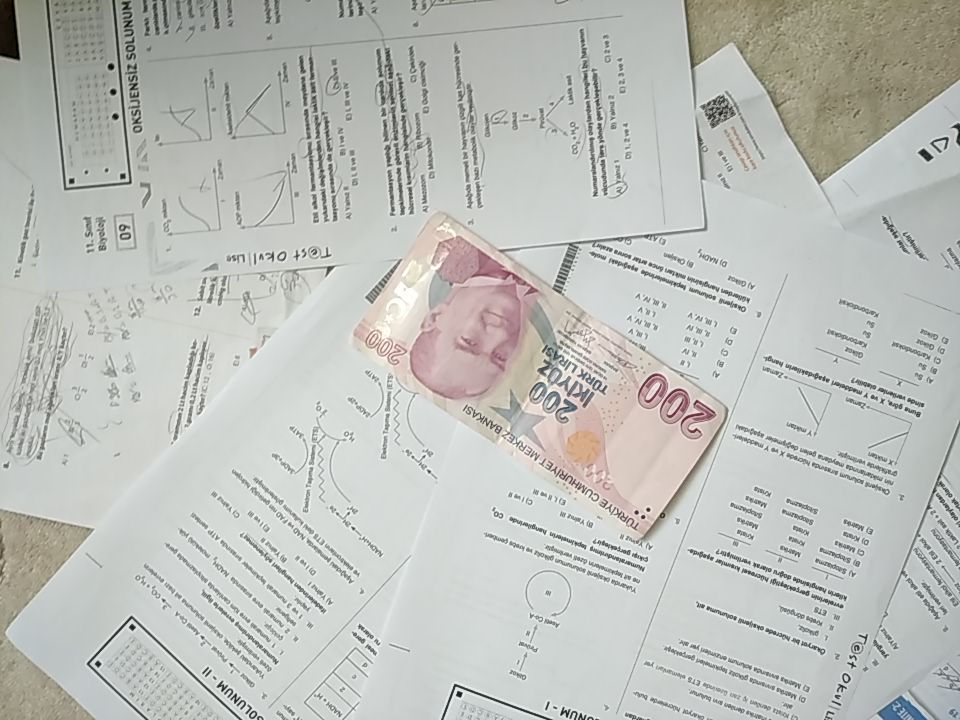200TL: (348, 211, 729, 542)
